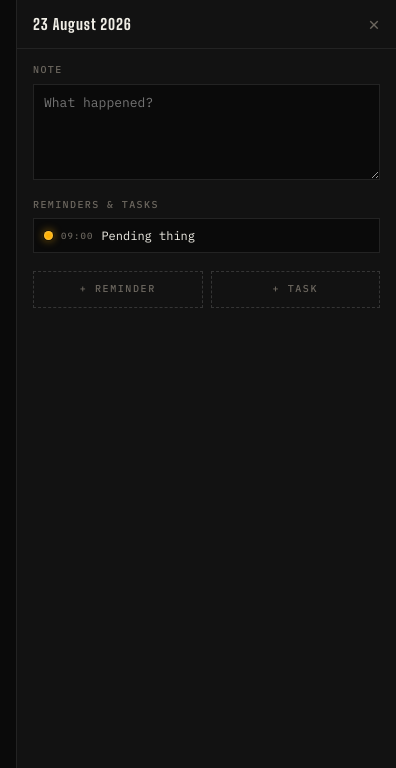
DayPanel › does not let the sync-change listener overwrite text typed while its own fetch is in flight
Step 1. Type "first" into the text box with placeholder "What happened?" → {"x": 206, "y": 132}, box [33,84,380,180]
Wait 1000 ms
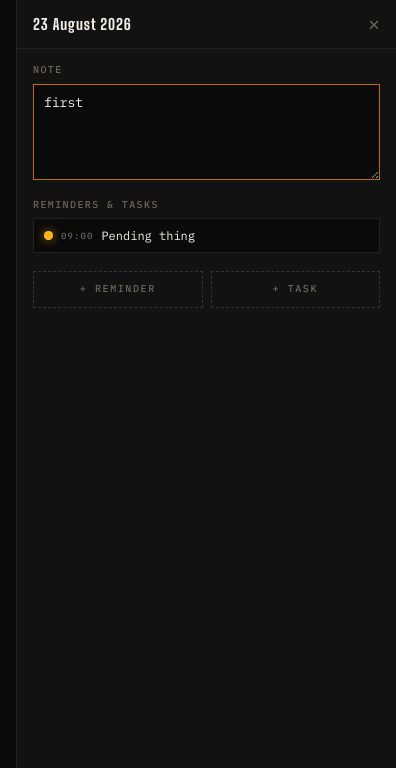
The user keeps typing while that fetch is still hanging.
Step 2. Type " more" into the text box with placeholder "What happened?" → {"x": 206, "y": 132}, box [33,84,380,180]
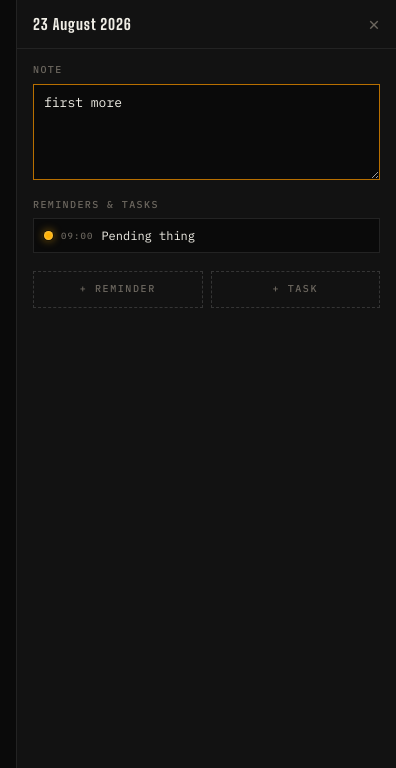
Expected: the text box with placeholder "What happened?" holds "first more", [33,84,380,180]
